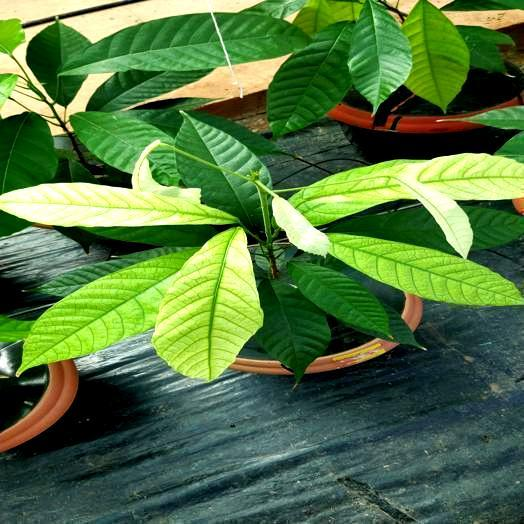Healthy Leaf: (175, 117, 270, 229), (61, 13, 226, 75), (267, 23, 352, 135), (288, 262, 391, 337), (255, 280, 330, 382), (402, 0, 469, 111), (29, 248, 180, 296), (350, 0, 411, 113), (72, 111, 173, 172), (26, 21, 89, 105), (88, 70, 211, 110), (216, 11, 308, 63), (0, 112, 57, 194), (463, 205, 523, 251), (456, 26, 513, 71), (451, 105, 523, 130), (383, 304, 417, 345), (0, 19, 24, 54), (0, 74, 15, 108)
Iron: (22, 249, 195, 370), (290, 153, 523, 225), (153, 228, 263, 379), (328, 233, 523, 305), (0, 183, 237, 226), (401, 172, 472, 258), (132, 140, 199, 202), (273, 196, 329, 255)
